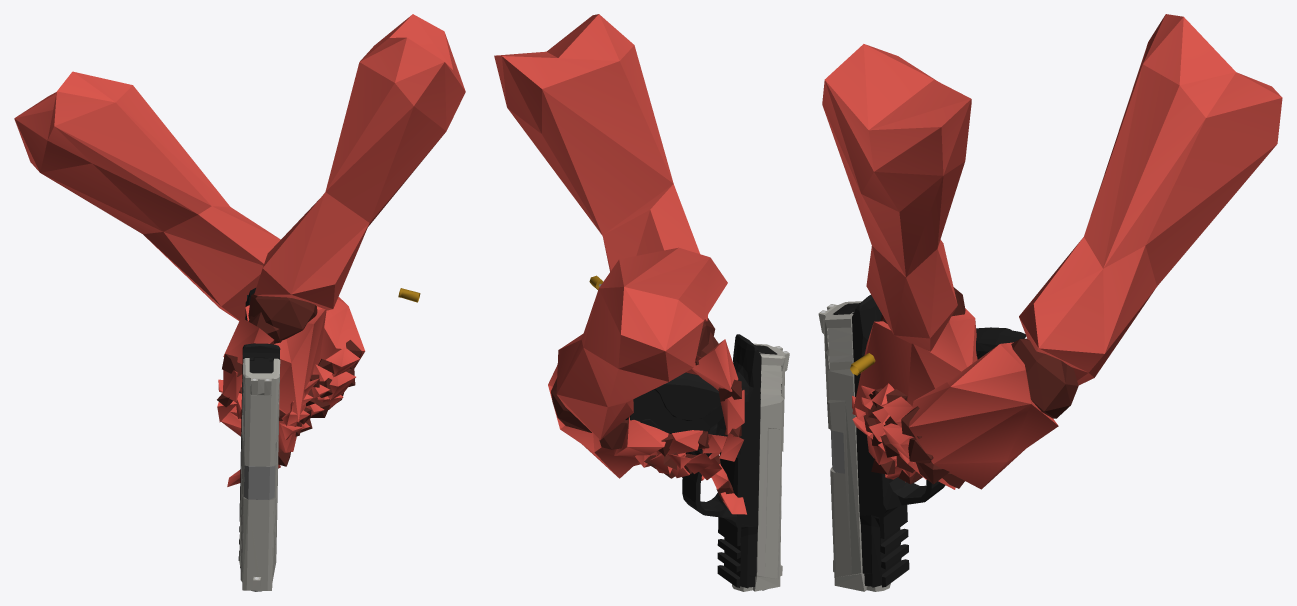
Rendered from M&P9shootExtendLowPoly_000022.obj.
3 views of the same model, side by side, from view 1: azimuth 30°, elevation 25°; view 2: azimuth 150°, elevation 25°; view 3: azimuth 270°, elevation 25° (orthographic). The views are drawn at different scales.
Parts seen in each view (by area): view 1: Beta_Surface, slide_平面.002, Beta_Joints, barrel_円.001, body_平面; view 2: Beta_Surface, body_平面, slide_平面.002, Beta_Joints; view 3: Beta_Surface, body_平面, slide_平面.002, Beta_Joints.
Boxes of the visible parts, box(x1,y1,x2,y2) form: Beta_Surface: box(14, 14, 465, 486); slide_平面.002: box(239, 358, 280, 590); Beta_Joints: box(217, 293, 361, 466); barrel_円.001: box(243, 465, 275, 591); body_平面: box(238, 288, 280, 567); Beta_Surface: box(494, 14, 746, 514); body_平面: box(629, 334, 761, 588); slide_平面.002: box(732, 343, 789, 591); Beta_Joints: box(551, 318, 741, 501); Beta_Surface: box(822, 14, 1282, 489); body_平面: box(852, 295, 1026, 587); slide_平面.002: box(818, 301, 890, 591); Beta_Joints: box(863, 287, 1078, 488).
Bounding box in the file's own units: 46.82 × 74.55 × 49.51.
